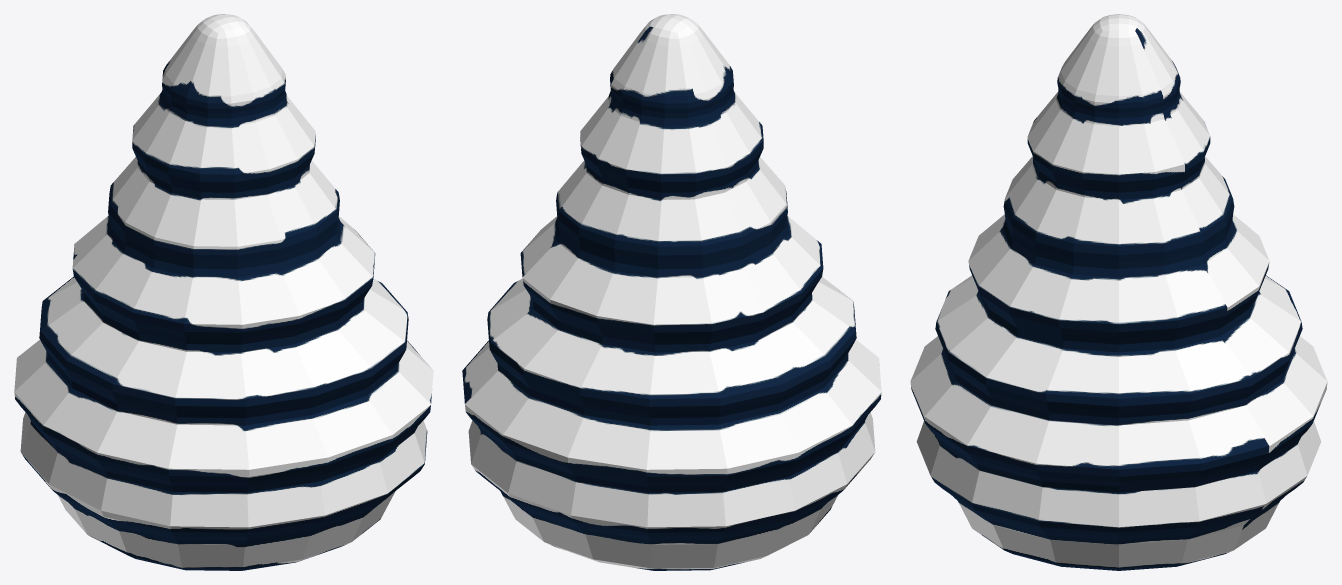
The model's file is Tree.glb.
3 views of the same model, side by side, from view 1: azimuth 30°, elevation 25°; view 2: azimuth 150°, elevation 25°; view 3: azimuth 270°, elevation 25° (orthographic).
Visible parts, largest first — view 1: Cube; view 2: Cube; view 3: Cube.
Part boxes in pixels (x1,y1,x2,y2): Cube: (14,14,433,570); Cube: (462,14,881,570); Cube: (910,14,1327,570).
Bounding box in the file's own units: 289 × 391 × 289.
Materials: 1 (1 with a texture image).
